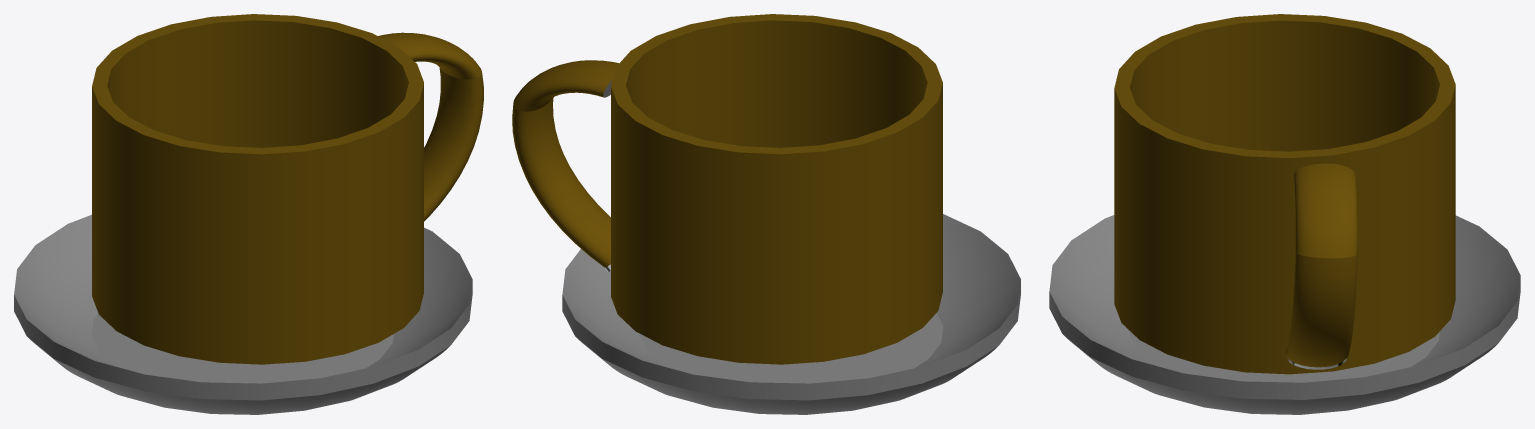
File: kapiçino.glb
3 views of the same model, side by side, from view 1: azimuth 30°, elevation 25°; view 2: azimuth 150°, elevation 25°; view 3: azimuth 270°, elevation 25° (orthographic). The views are drawn at different scales.
Visible parts, largest first — view 1: root; view 2: root; view 3: root.
Part boxes in pixels (x1,y1,x2,y2): root: (14, 14, 483, 414); root: (512, 14, 1020, 414); root: (1049, 14, 1520, 414).
Size of the model in its own units: 0.2753 by 0.1476 by 0.2418.
4 materials, 1 textured.
